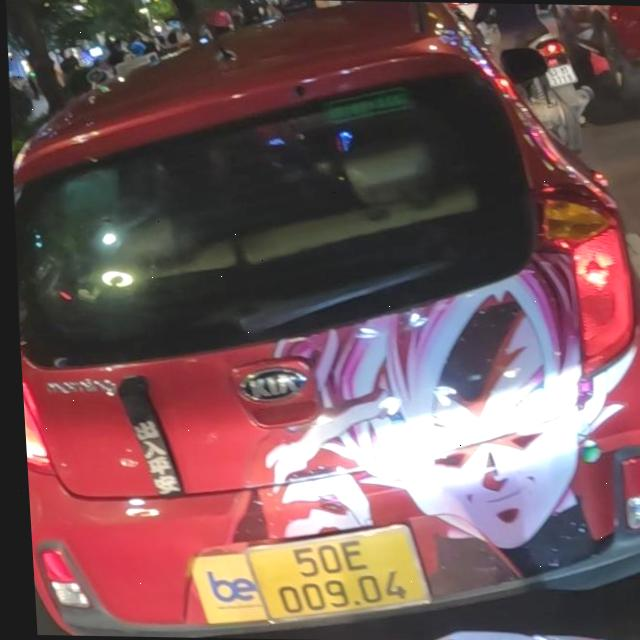car: (1, 10, 640, 639)
plate: (239, 524, 438, 624)
